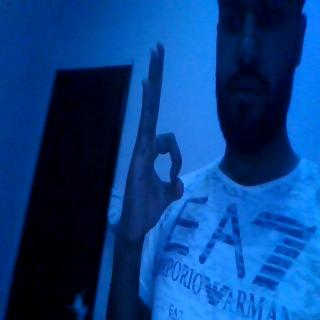Space: (122, 41, 188, 242)
